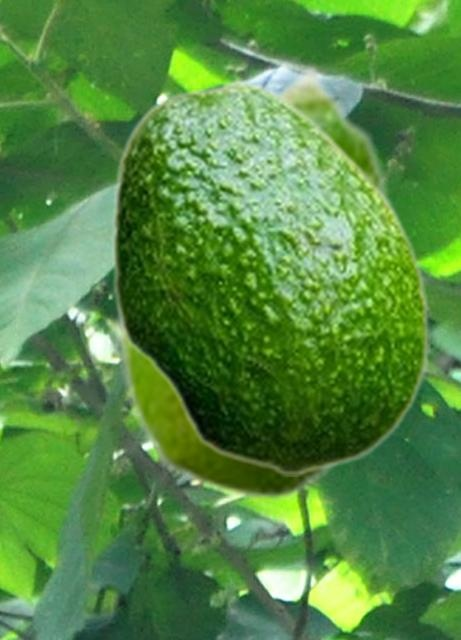avocado: (116, 62, 414, 501), (109, 78, 429, 475)
